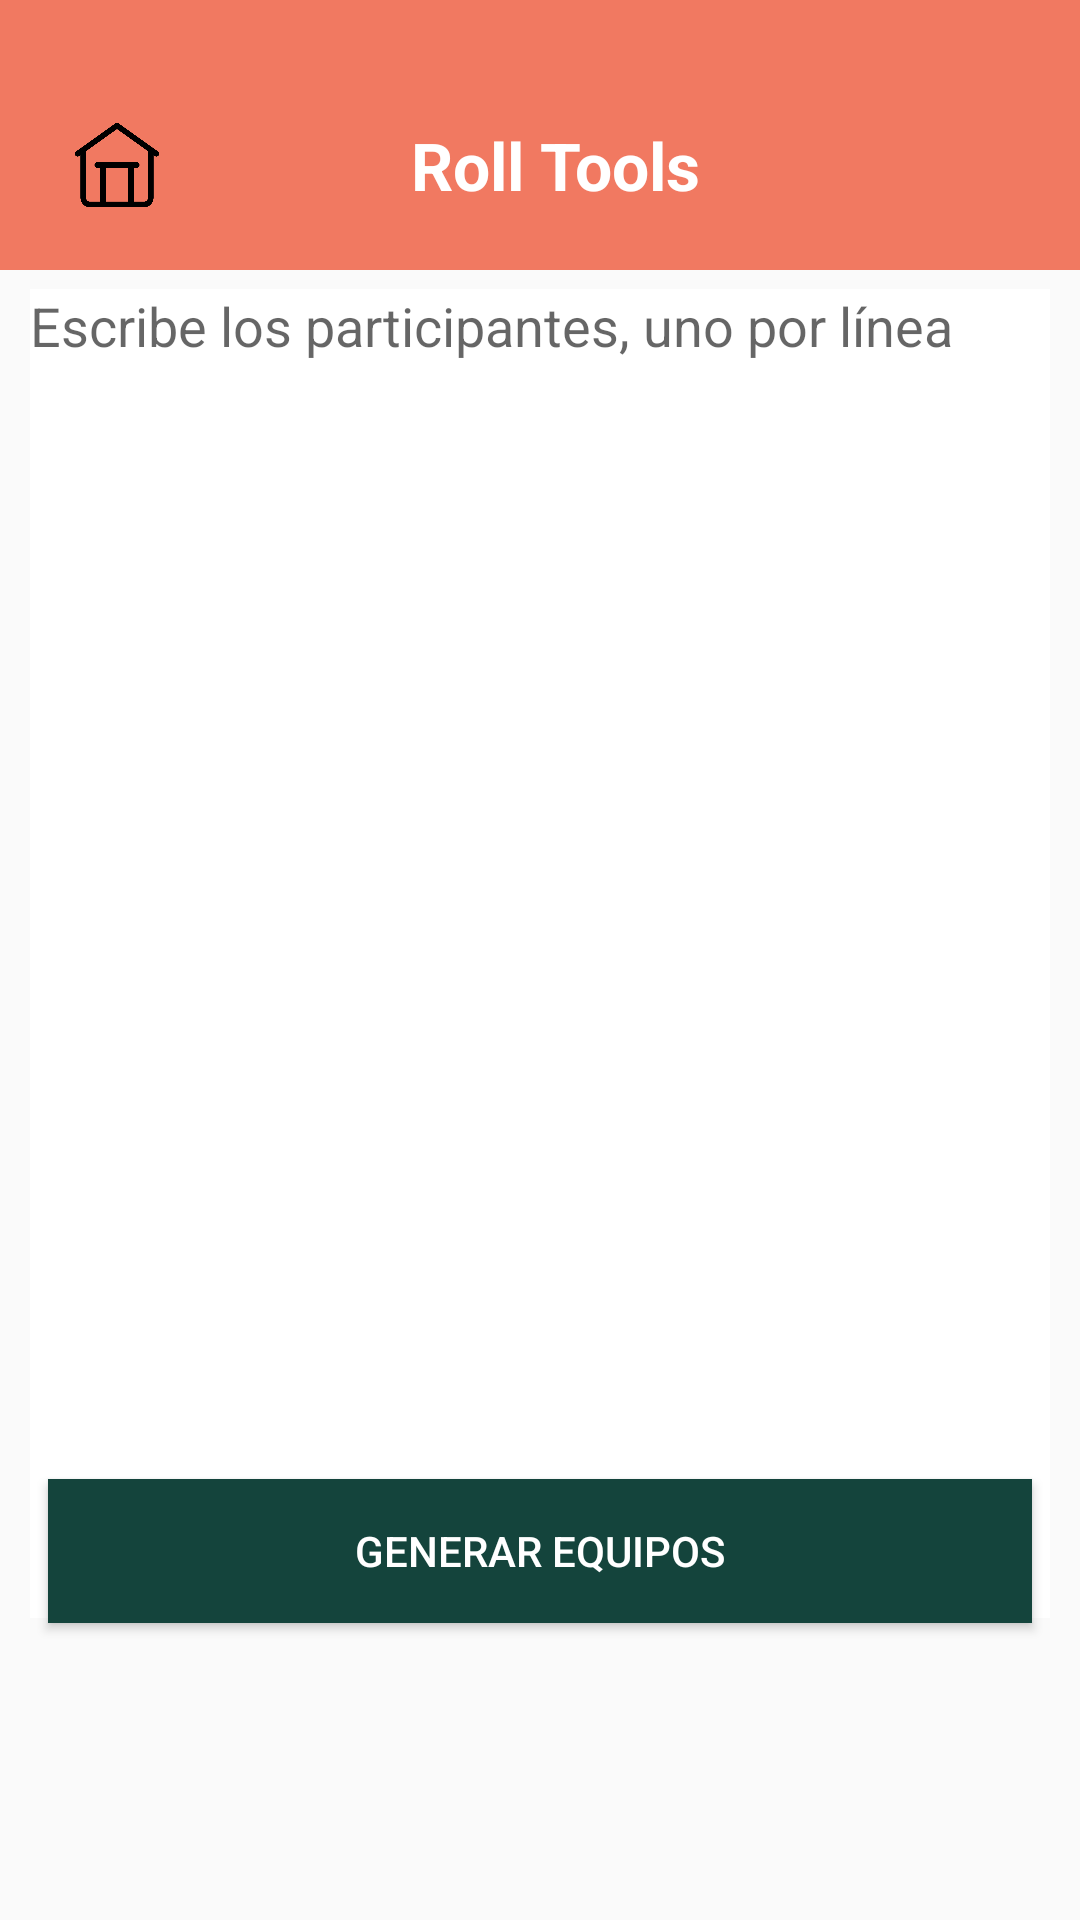

Named icons in this screenshot (1080*1920) and their bounding boxes, (x1, y1, x2, y2):
casa: (75, 123, 159, 207)
